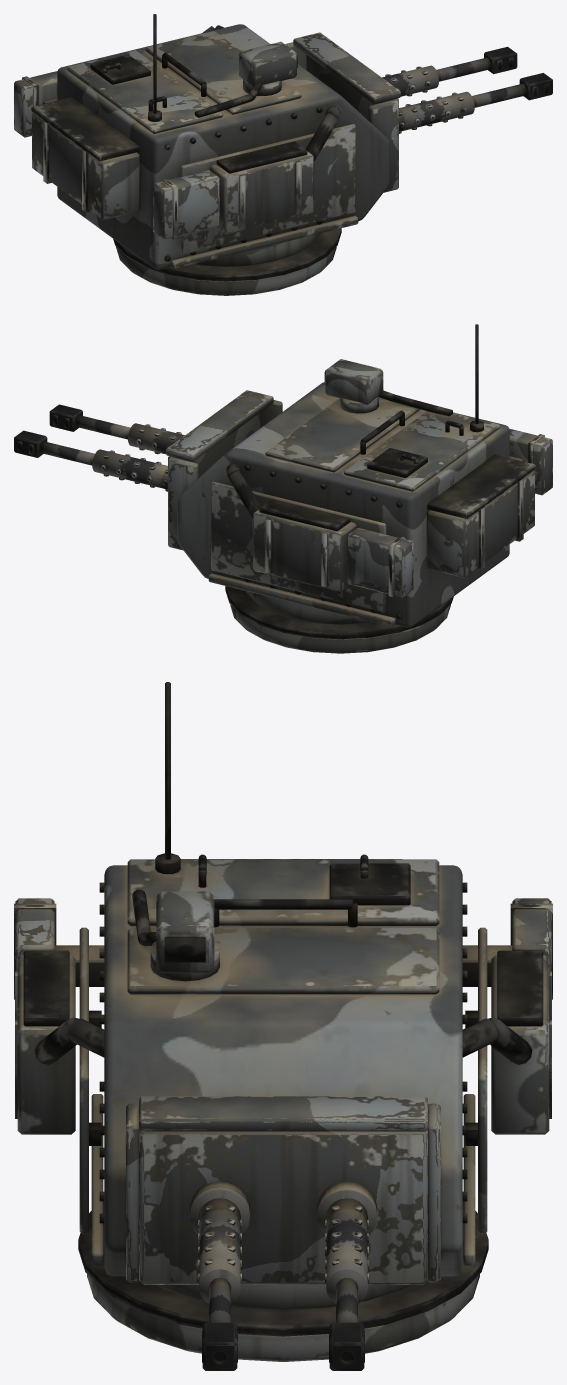
The model's file is turret_grach_t3_shark.glb.
The picture shows the model from 3 angles, top to bottom: view 1: azimuth 30°, elevation 25°; view 2: azimuth 150°, elevation 25°; view 3: azimuth 270°, elevation 25°; orthographic projection. The views are drawn at different scales.
Parts seen in each view (by area): view 1: turret_light_t3, guns, pods; view 2: turret_light_t3, guns, pods; view 3: turret_light_t3, guns, pods.
Part boxes in pixels (x1,y1,x2,y2): turret_light_t3: [31, 14, 389, 295]; guns: [285, 32, 552, 192]; pods: [14, 71, 220, 239]; turret_light_t3: [177, 324, 535, 653]; guns: [14, 390, 282, 550]; pods: [346, 428, 552, 597]; turret_light_t3: [15, 682, 551, 1361]; guns: [126, 1096, 440, 1370]; pods: [14, 898, 552, 999].
Size of the model in its own units: 1.86 by 1.09 by 1.05.
3 materials, 3 textured.
